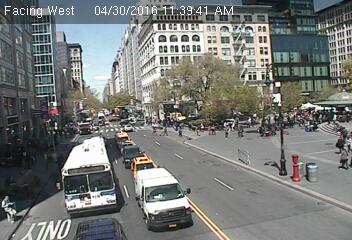neg: (82, 151, 132, 218), (131, 152, 170, 205), (172, 173, 207, 219), (25, 44, 59, 90), (275, 164, 302, 200), (301, 58, 327, 93), (248, 204, 272, 236)
